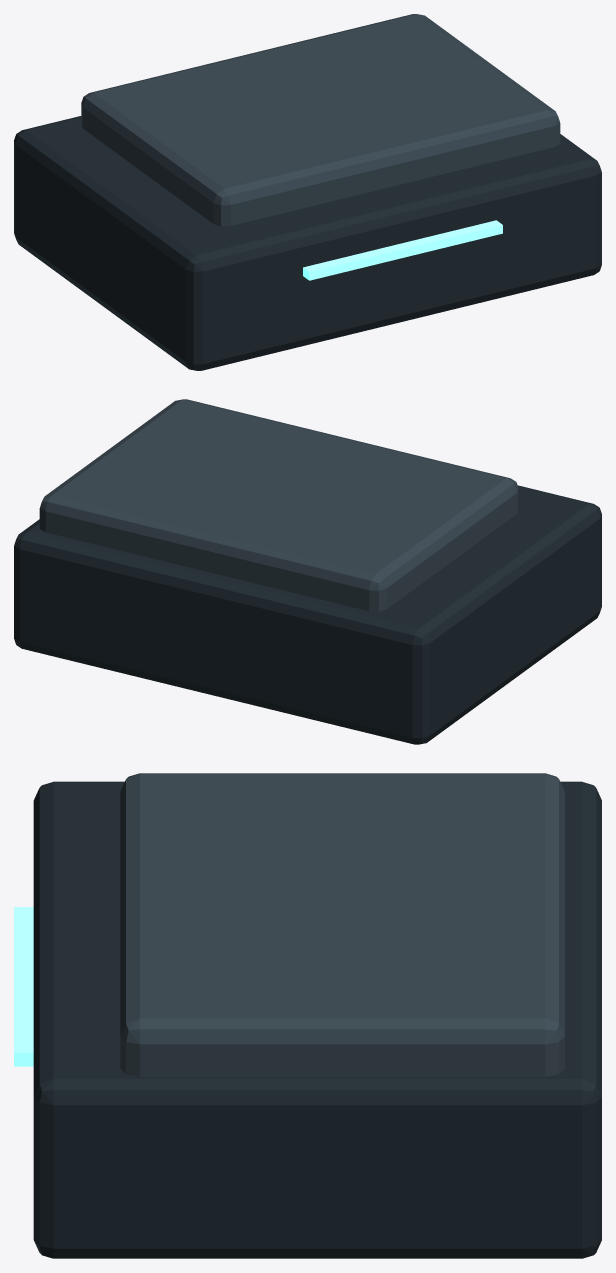
Rendered from CC_S16_P2_Product_VertexOneConsole_LOD0.fbx.
The picture shows the model from 3 angles, top to bottom: view 1: azimuth 30°, elevation 25°; view 2: azimuth 150°, elevation 25°; view 3: azimuth 270°, elevation 25°; orthographic projection. The views are drawn at different scales.
Parts seen in each view (by area): view 1: CC_S16_P2_Product_VertexOneConsole_LOD0_Body, CC_S16_P2_Product_VertexOneConsole_LOD0_Panel, CC_S16_P2_Product_VertexOneConsole_LOD0_LED; view 2: CC_S16_P2_Product_VertexOneConsole_LOD0_Body, CC_S16_P2_Product_VertexOneConsole_LOD0_Panel; view 3: CC_S16_P2_Product_VertexOneConsole_LOD0_Body, CC_S16_P2_Product_VertexOneConsole_LOD0_Panel, CC_S16_P2_Product_VertexOneConsole_LOD0_LED.
Part boxes in pixels (x1,y1,x2,y2): CC_S16_P2_Product_VertexOneConsole_LOD0_Body: (14, 116, 601, 370); CC_S16_P2_Product_VertexOneConsole_LOD0_Panel: (81, 14, 560, 226); CC_S16_P2_Product_VertexOneConsole_LOD0_LED: (303, 220, 502, 280); CC_S16_P2_Product_VertexOneConsole_LOD0_Body: (14, 485, 601, 744); CC_S16_P2_Product_VertexOneConsole_LOD0_Panel: (39, 399, 518, 611); CC_S16_P2_Product_VertexOneConsole_LOD0_Body: (33, 781, 601, 1258); CC_S16_P2_Product_VertexOneConsole_LOD0_Panel: (120, 773, 564, 1076); CC_S16_P2_Product_VertexOneConsole_LOD0_LED: (14, 907, 33, 1066).
Size of what is drawn, in the model's own units: 0.3 by 0.1025 by 0.238.
